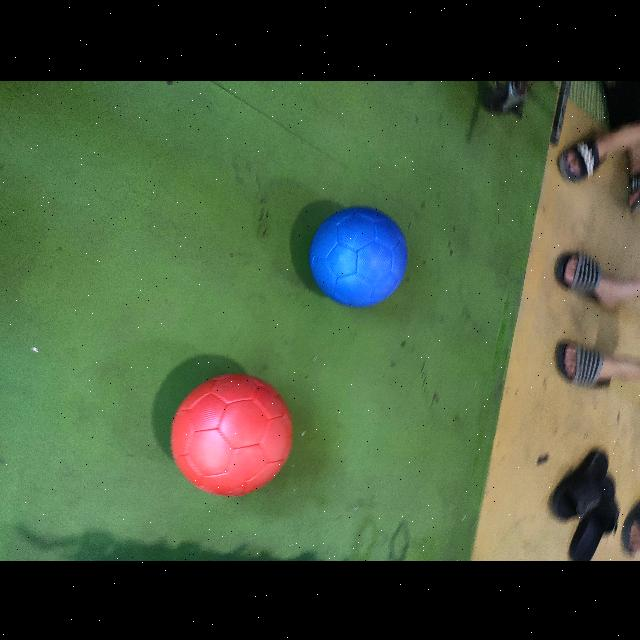B: (305, 204, 408, 307)
R: (168, 370, 292, 496)
